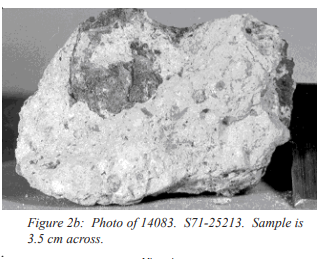Breccia: (20, 17, 298, 199), (196, 11, 293, 208), (109, 56, 233, 170)
